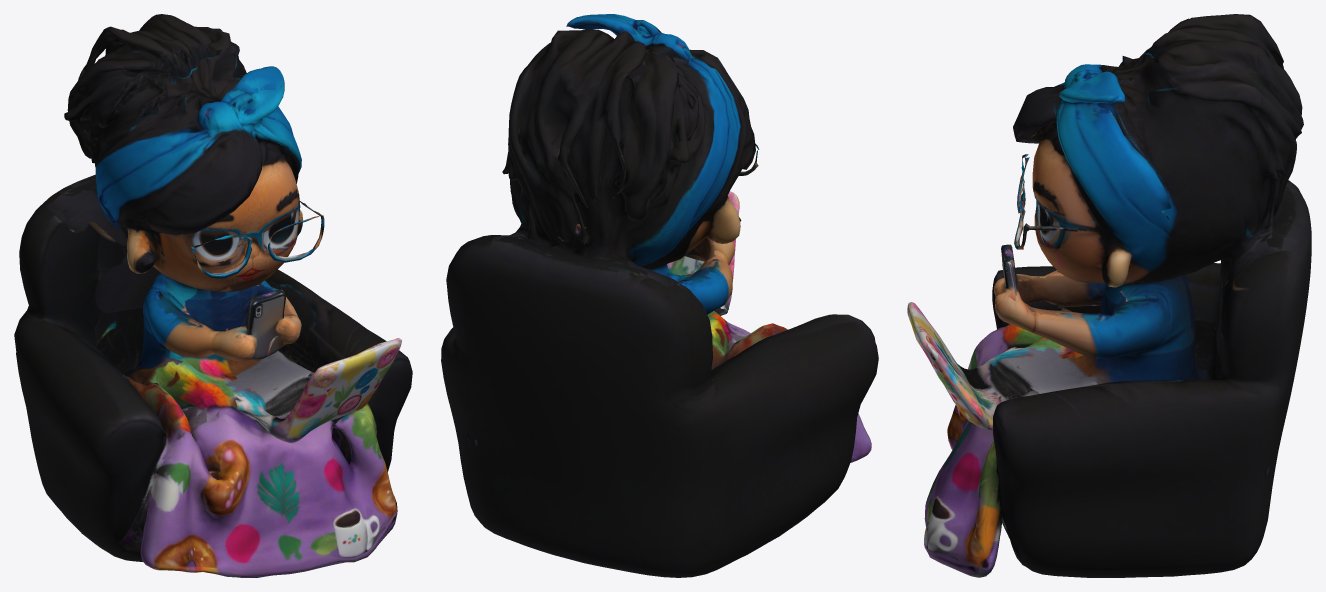
File: Tech_Cozy_Shelly_0709052906_texture.glb
The picture shows the model from 3 angles, left to right: view 1: azimuth 30°, elevation 25°; view 2: azimuth 150°, elevation 25°; view 3: azimuth 270°, elevation 25°; orthographic projection. The views are drawn at different scales.
Size of the model in its own units: 1.46 by 1.99 by 1.49.
Materials: 1 (1 with a texture image).
